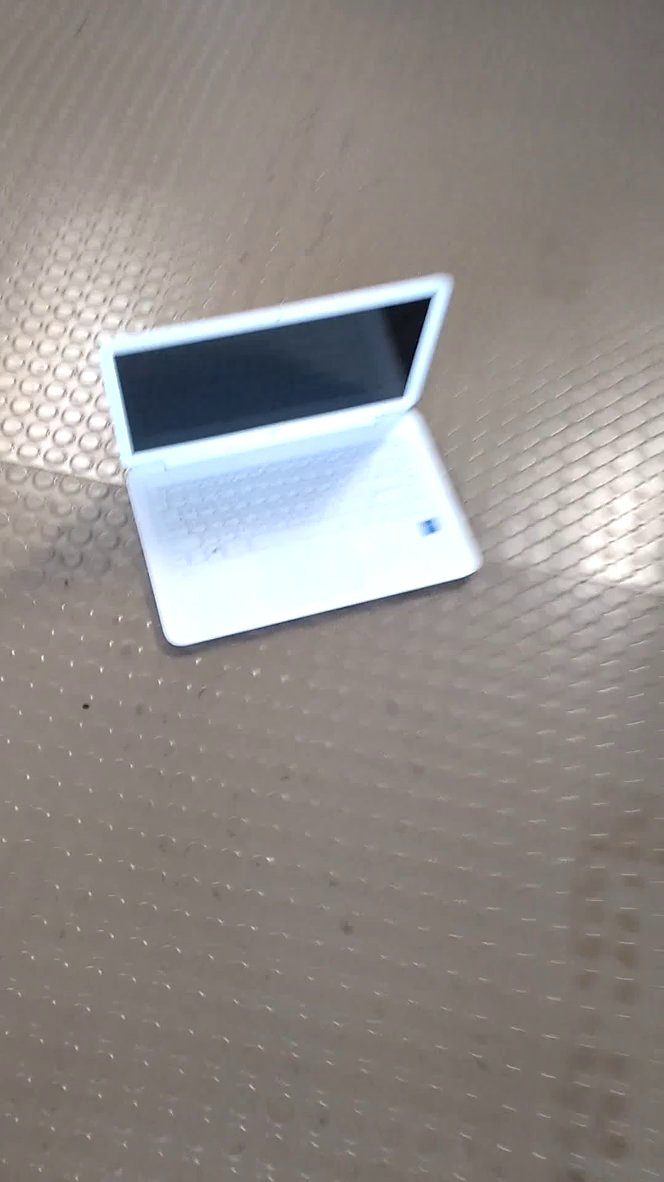laptop: (101, 266, 512, 658)
